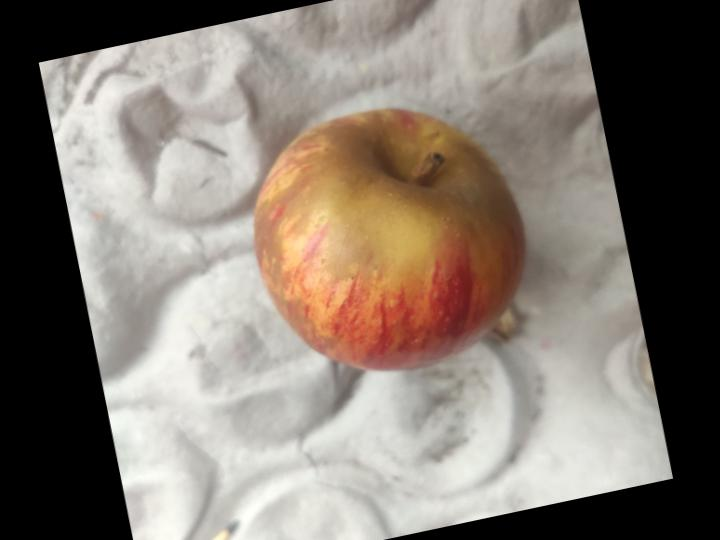apple: (255, 108, 525, 368)
bruise_discoloration: (256, 108, 524, 291)
